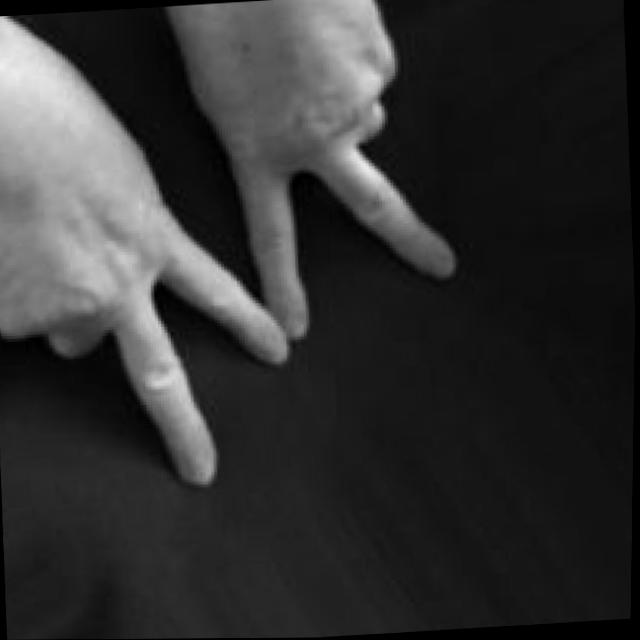M: (0, 0, 473, 508)
